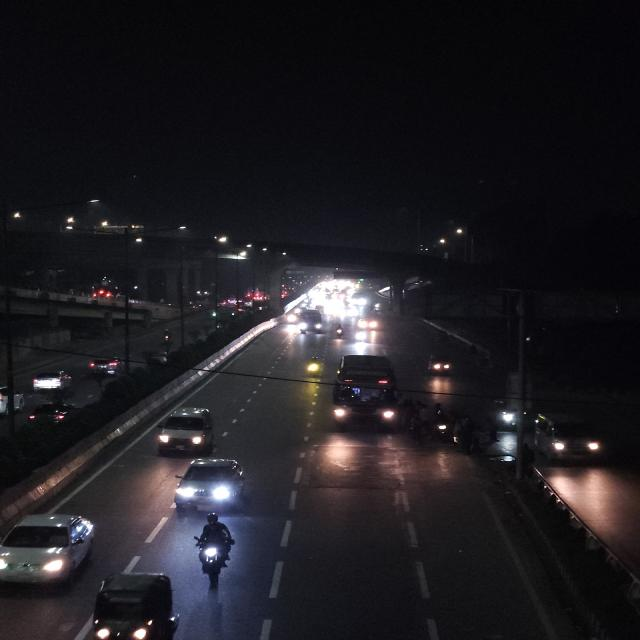bus: (330, 352, 402, 432), (298, 309, 324, 334)
car: (0, 508, 99, 591), (528, 407, 609, 471), (175, 458, 251, 518), (154, 403, 218, 458), (28, 401, 81, 429), (30, 368, 74, 392), (86, 355, 127, 379)
cng: (90, 571, 178, 640), (426, 352, 454, 377)
motorcycle: (187, 515, 239, 587), (426, 397, 456, 445), (304, 356, 322, 378), (158, 328, 176, 344), (335, 324, 346, 338)
